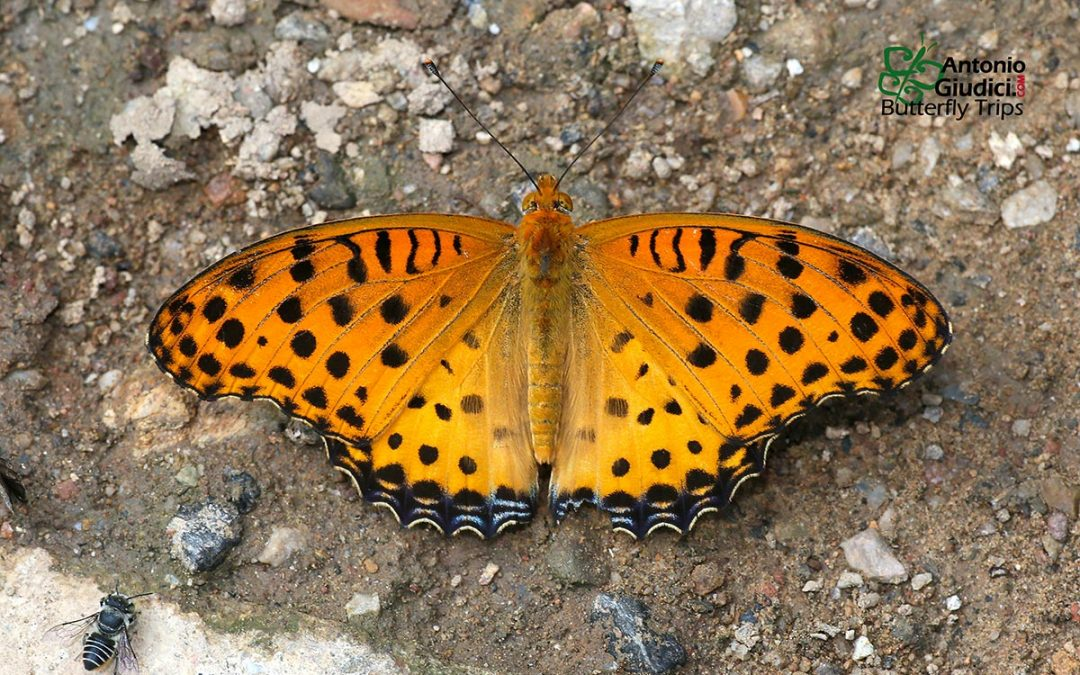Argyreus hyperbius: (139, 45, 963, 543)
butterfly: (141, 47, 965, 545)
